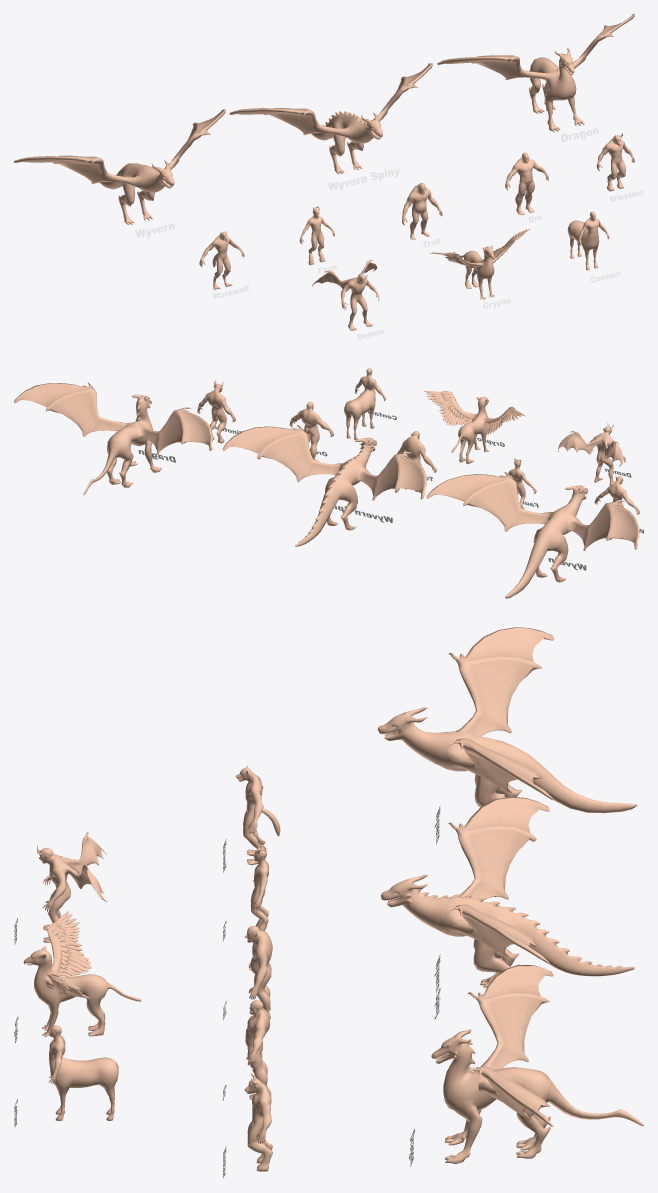
3 renders of one model, top to bottom at view 1: azimuth 30°, elevation 25°; view 2: azimuth 150°, elevation 25°; view 3: azimuth 270°, elevation 25°, orthographic. The views are drawn at different scales.
Visible parts, largest first — view 1: Wyvern_Body, Dragon_Body, WyvernSpiny_Body, Demon_Body, Grypho_Body, Centaur_Body, Orc_Body, Troll_Body, Minotaur_Body, Warewolf_Body, Faun_Body; view 2: Wyvern_Body, WyvernSpiny_Body, Dragon_Body, Demon_Body, Grypho_Body, Centaur_Body, Minotaur_Body, Orc_Body, Grypho_WingL, Troll_Body, Warewolf_Body, Faun_Body (+1 smaller); view 3: WyvernSpiny_Body, Wyvern_Body, Dragon_Body, Grypho_Body, Centaur_Body, Demon_Body, Minotaur_Body, Warewolf_Body, Troll_Body, Grypho_WingR, Orc_Body, Faun_Body.
Boxes of the visible parts, <box> form: Wyvern_Body: <box>14,109,225,224</box>; Dragon_Body: <box>437,14,634,132</box>; WyvernSpiny_Body: <box>229,63,432,174</box>; Demon_Body: <box>312,259,379,331</box>; Grypho_Body: <box>457,239,515,299</box>; Centaur_Body: <box>567,211,609,270</box>; Orc_Body: <box>505,152,548,215</box>; Troll_Body: <box>402,183,442,239</box>; Minotaur_Body: <box>596,133,634,191</box>; Warewolf_Body: <box>199,231,244,289</box>; Faun_Body: <box>299,206,334,265</box>; Wyvern_Body: <box>426,472,639,598</box>; WyvernSpiny_Body: <box>222,425,426,546</box>; Dragon_Body: <box>14,382,212,494</box>; Demon_Body: <box>558,422,625,485</box>; Grypho_Body: <box>451,393,509,464</box>; Centaur_Body: <box>344,368,385,439</box>; Minotaur_Body: <box>197,380,235,443</box>; Orc_Body: <box>290,402,333,461</box>; Grypho_WingL: <box>424,391,472,425</box>; Troll_Body: <box>397,431,436,491</box>; Warewolf_Body: <box>594,476,639,514</box>; Faun_Body: <box>505,458,536,509</box>; WyvernSpiny_Body: <box>381,797,634,995</box>; Wyvern_Body: <box>377,627,637,813</box>; Dragon_Body: <box>431,964,643,1163</box>; Grypho_Body: <box>23,929,141,1037</box>; Centaur_Body: <box>49,1025,118,1121</box>; Demon_Body: <box>37,832,106,942</box>; Minotaur_Body: <box>244,1072,272,1171</box>; Warewolf_Body: <box>235,765,280,865</box>; Troll_Body: <box>245,926,272,1018</box>; Grypho_WingR: <box>47,911,91,977</box>; Orc_Body: <box>245,1000,269,1099</box>; Faun_Body: <box>250,845,268,931</box>.
Bounding box in the file's own units: 3.69 × 0.6371 × 2.05.
